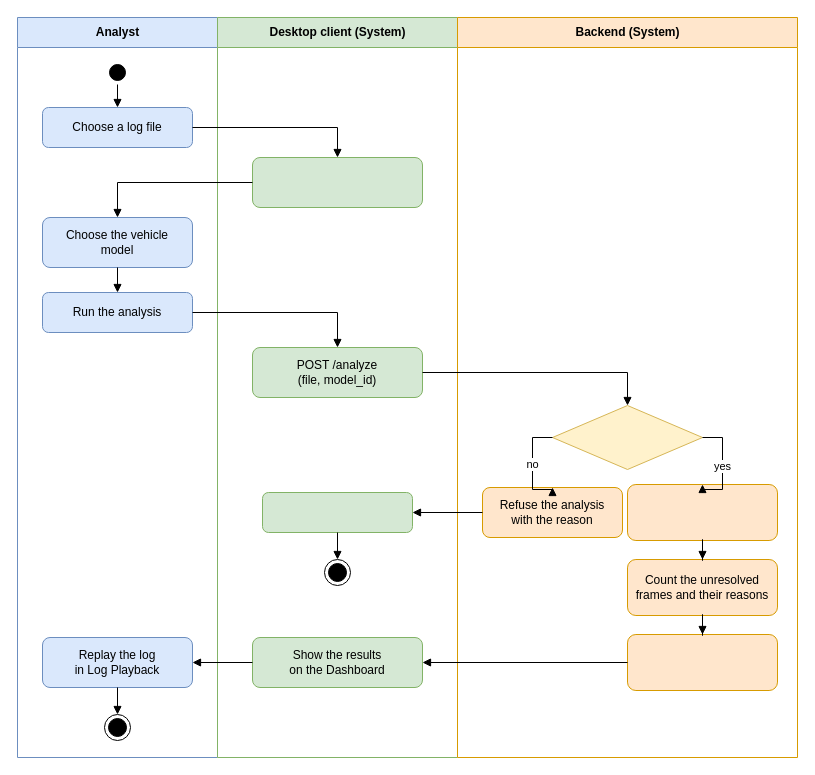
Some shapes in this 815 by 775 pixel diagram are drawn without their labels. Here are the shapes that lost their labels. From the top down, the centre of each, then its label:
At pixel 337 182: "Recognise the format and read the frames".
At pixel 627 437: "Model allowed offline?".
At pixel 337 512: "Show the reason".
At pixel 702 512: "Score every frame with the model of its identifier".
At pixel 702 662: "Additional checks, merge bursts into alerts".
